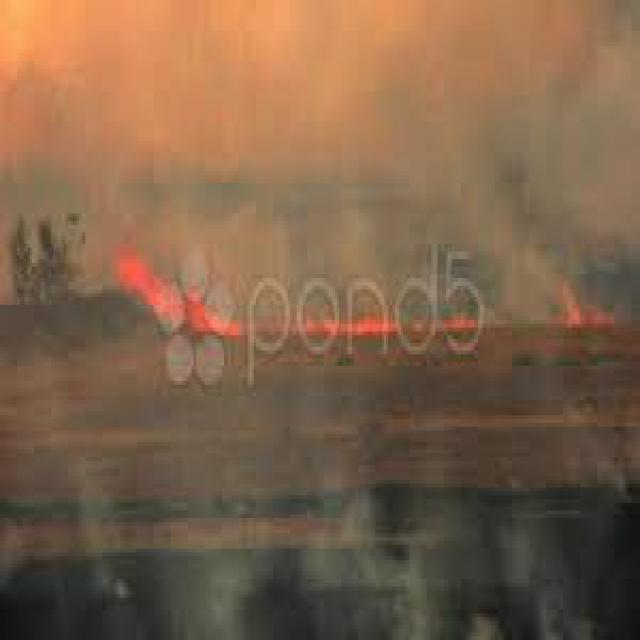Fire: (110, 256, 606, 344)
